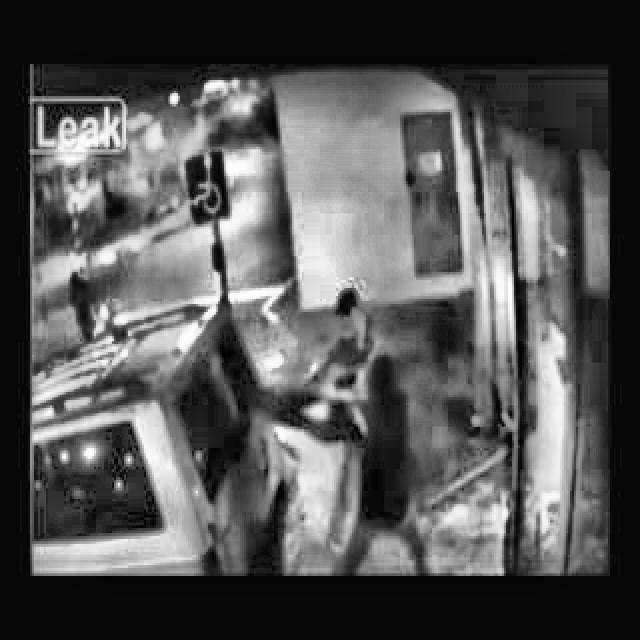burglary: (130, 241, 609, 576)
